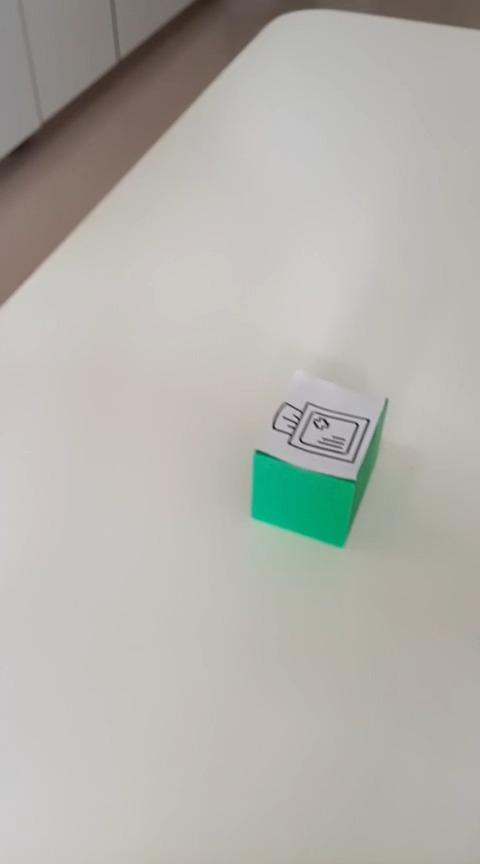Gauze: (248, 368, 388, 548)
